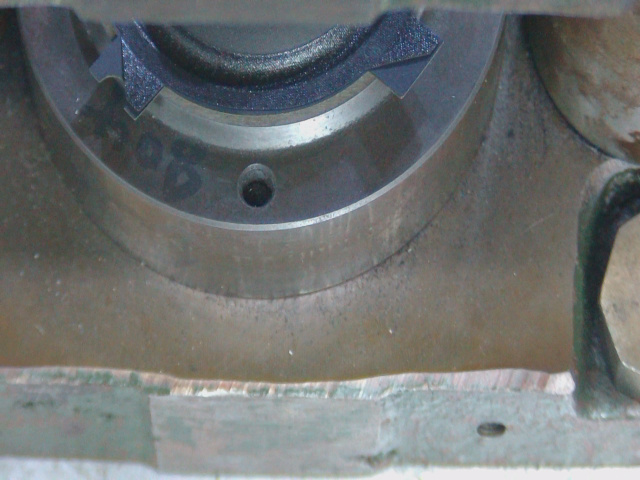OK: (90, 38, 176, 128)
